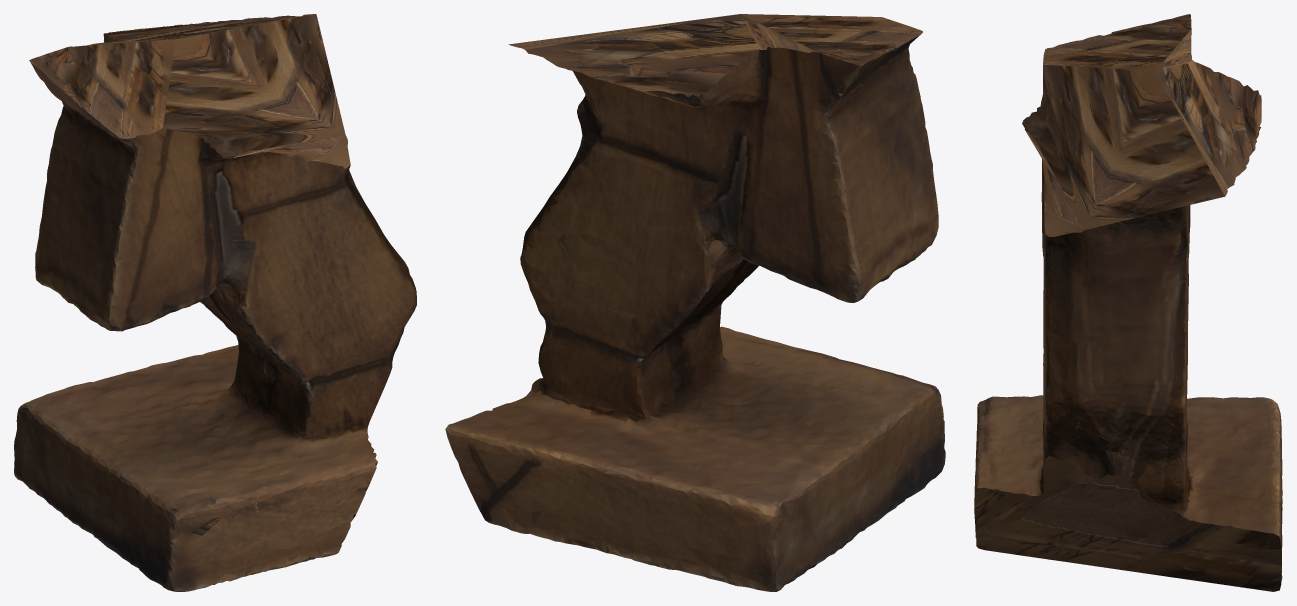
Rendered from BackLeg.fbx.
3 views of the same model, side by side, from view 1: azimuth 30°, elevation 25°; view 2: azimuth 150°, elevation 25°; view 3: azimuth 270°, elevation 25° (orthographic). The views are drawn at different scales.
Parts seen in each view (by area): view 1: KLA-Or-10000_cell.009; view 2: KLA-Or-10000_cell.009; view 3: KLA-Or-10000_cell.009.
Part boxes in pixels (x1,y1,x2,y2): KLA-Or-10000_cell.009: [14, 14, 416, 591]; KLA-Or-10000_cell.009: [445, 14, 945, 591]; KLA-Or-10000_cell.009: [974, 14, 1282, 591].
Size of the model in its own units: 51.26 by 68.22 by 42.62.
